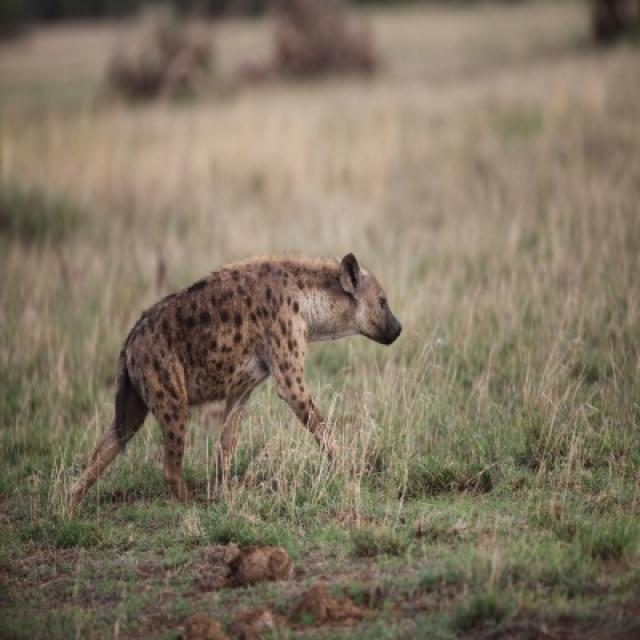hyena: (70, 254, 403, 518)
